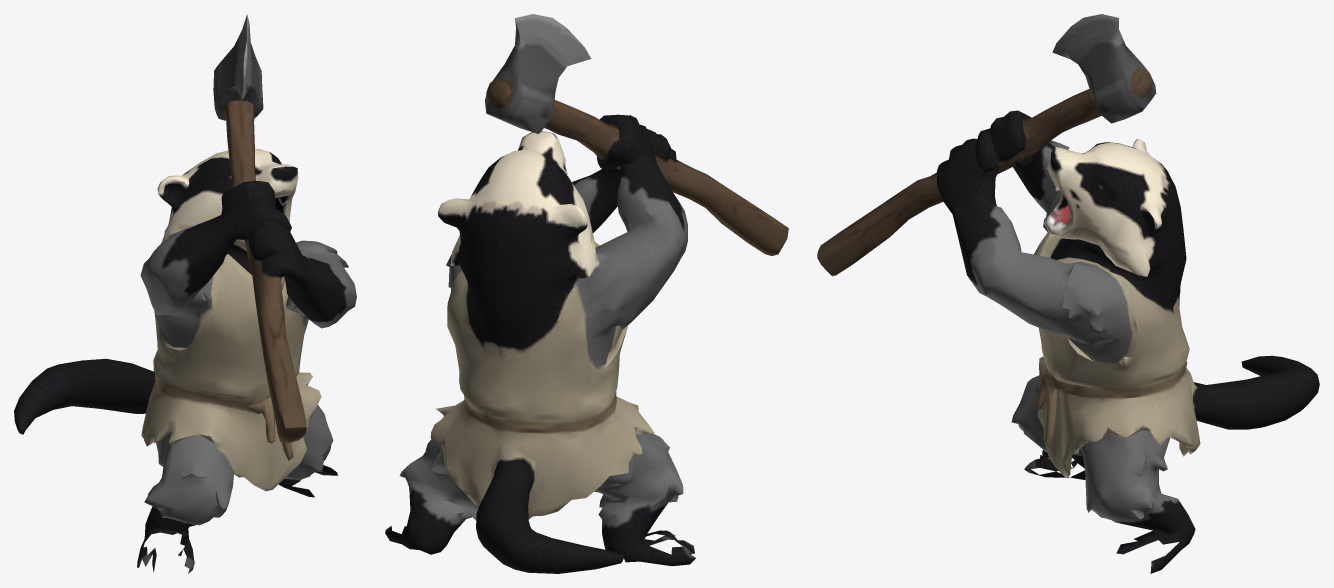
File: wildkin_strike.glb
3 renders of one model, left to right at view 1: azimuth 30°, elevation 25°; view 2: azimuth 150°, elevation 25°; view 3: azimuth 270°, elevation 25°, orthographic. The views are drawn at different scales.
Visible parts, largest first — view 1: world; view 2: world; view 3: world.
Part boxes in pixels (x1=…): world: x1=14, y1=14, x2=356, y2=573; world: x1=385, y1=14, x2=788, y2=573; world: x1=817, y1=14, x2=1319, y2=573.
Bounding box in the file's own units: 0.5579 × 0.9796 × 0.8842.
Materials: 1 (1 with a texture image).
